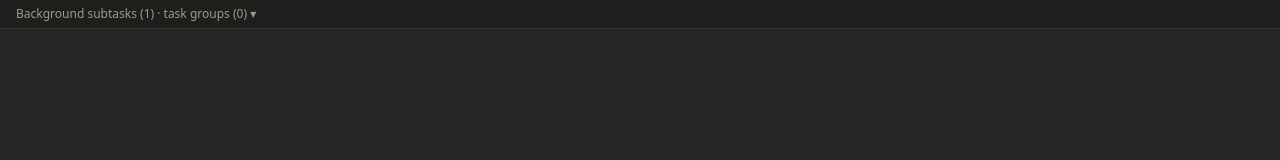
Test case: background tasks › shows status, untrusted result and cancellation
Later steps or results of the test are not shown.
Click the button "Background subtasks (1) · task groups (0) ▾" at (136, 14), box [16, 6, 256, 22]
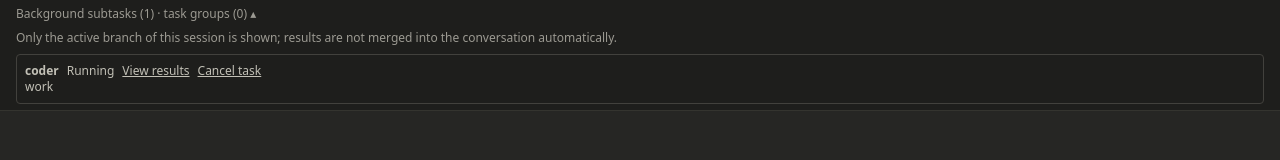
Result: the text "Running" is shown at [67, 63, 114, 79]
